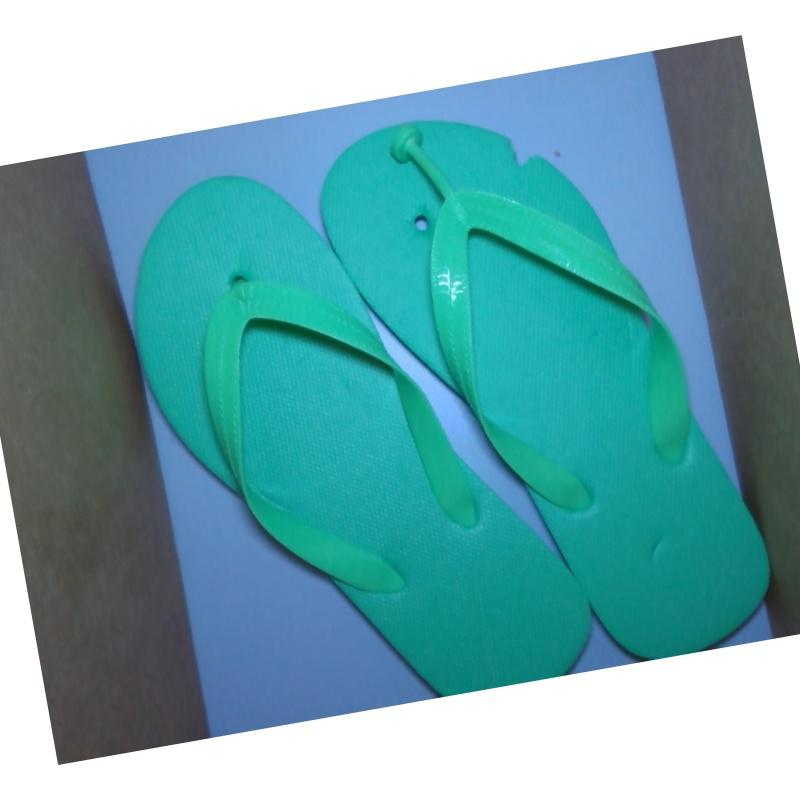chipped: (497, 123, 554, 178)
detached: (389, 121, 438, 177)
